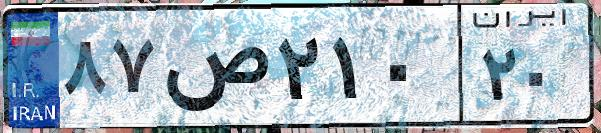0: (385, 28, 445, 110), (525, 38, 570, 115)
1: (330, 28, 385, 110)
2: (270, 28, 330, 110), (475, 38, 525, 113)
7: (110, 28, 158, 98)
8: (57, 26, 110, 100)
ص: (158, 20, 270, 120)
